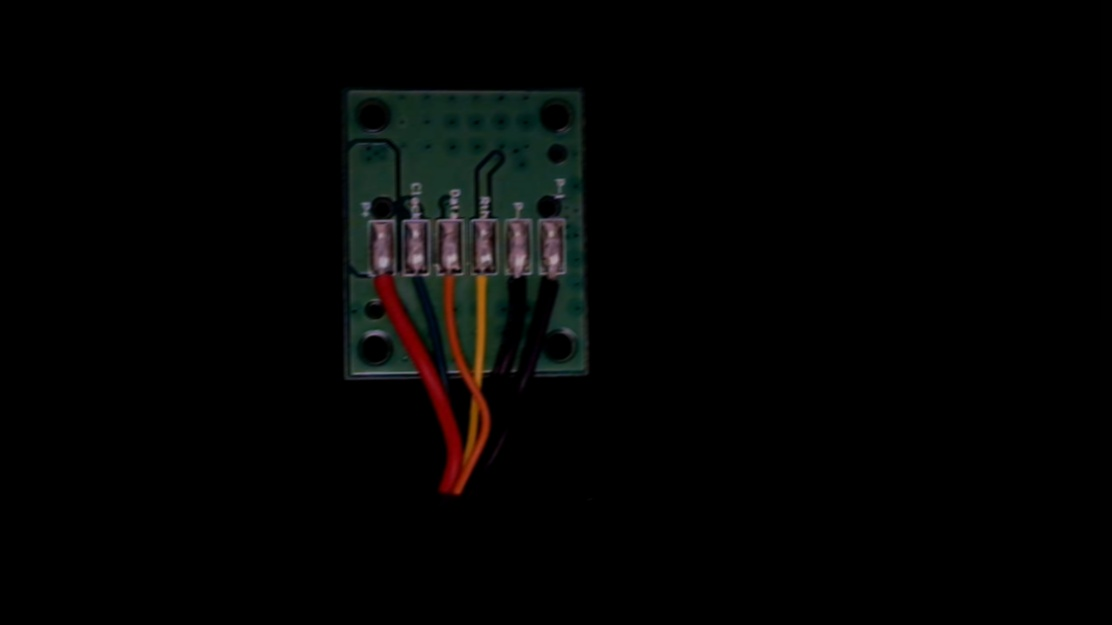Black: (503, 260, 534, 317)
Black1: (540, 260, 567, 310)
Green: (404, 258, 434, 308)
Orange: (436, 257, 465, 311)
Red: (368, 263, 398, 315)
Yellow: (469, 260, 498, 315)
